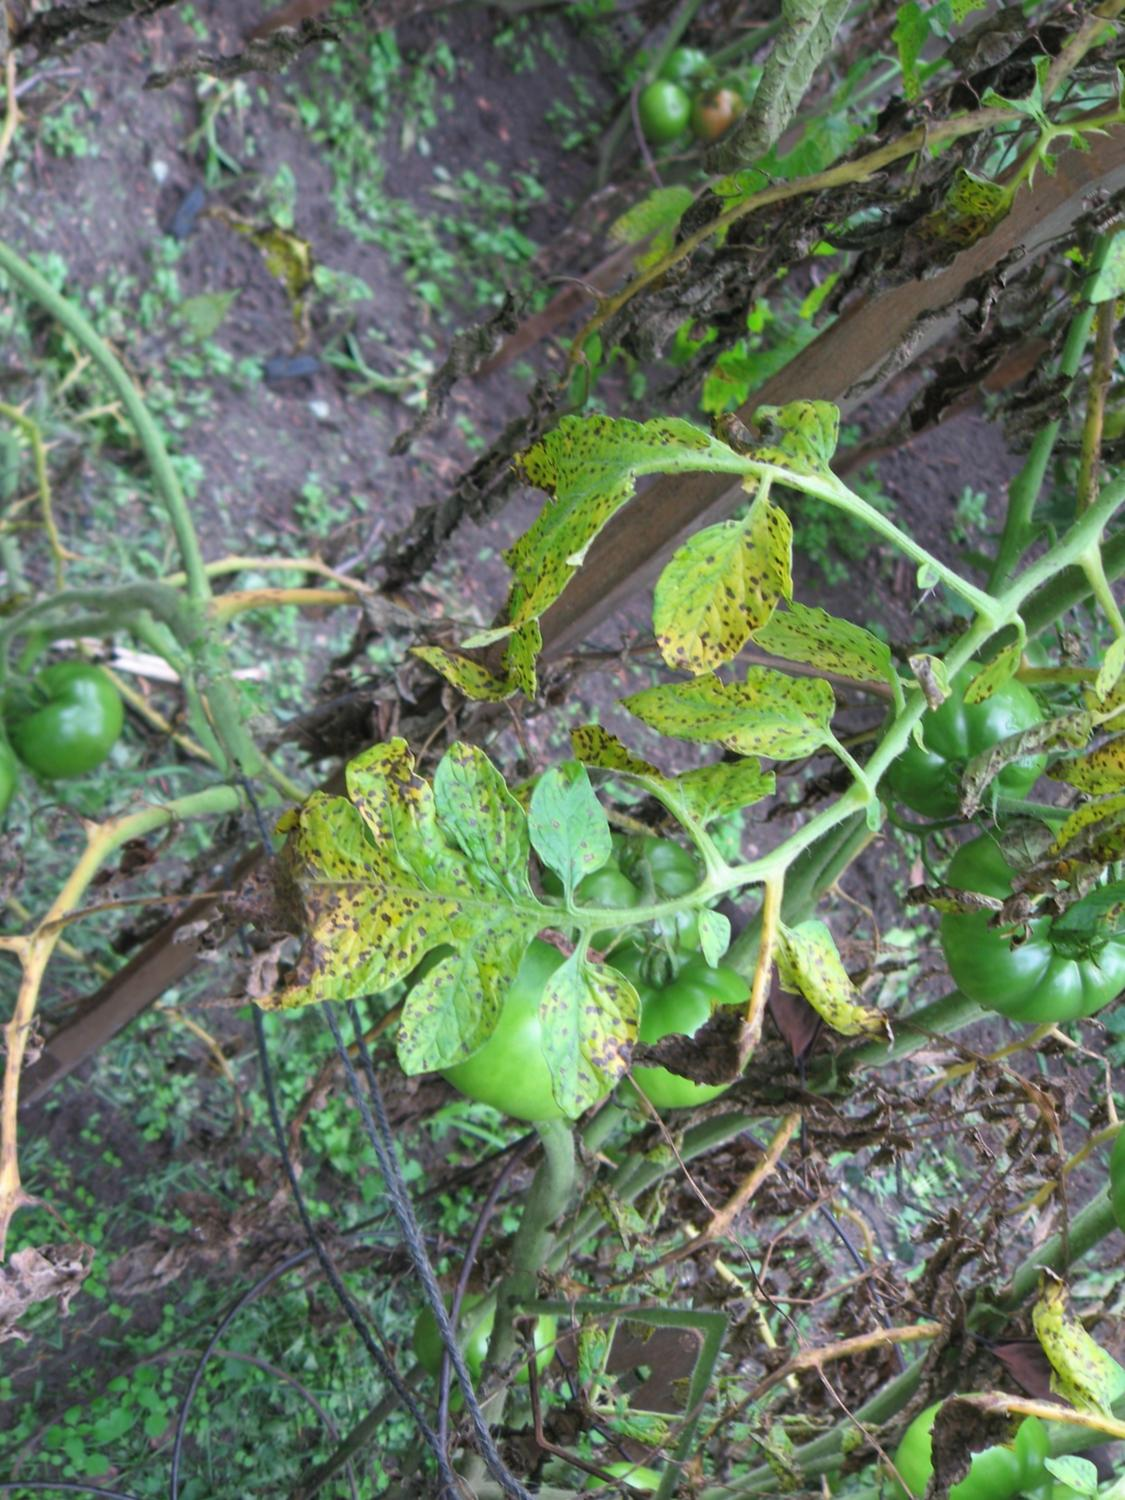Tomato Septoria leaf spot: (176, 669, 637, 1120), (370, 298, 822, 718), (601, 589, 876, 853), (604, 461, 850, 696), (489, 937, 689, 1143), (753, 882, 921, 1078)
